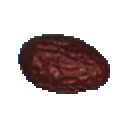gd: (9, 21, 112, 124)
